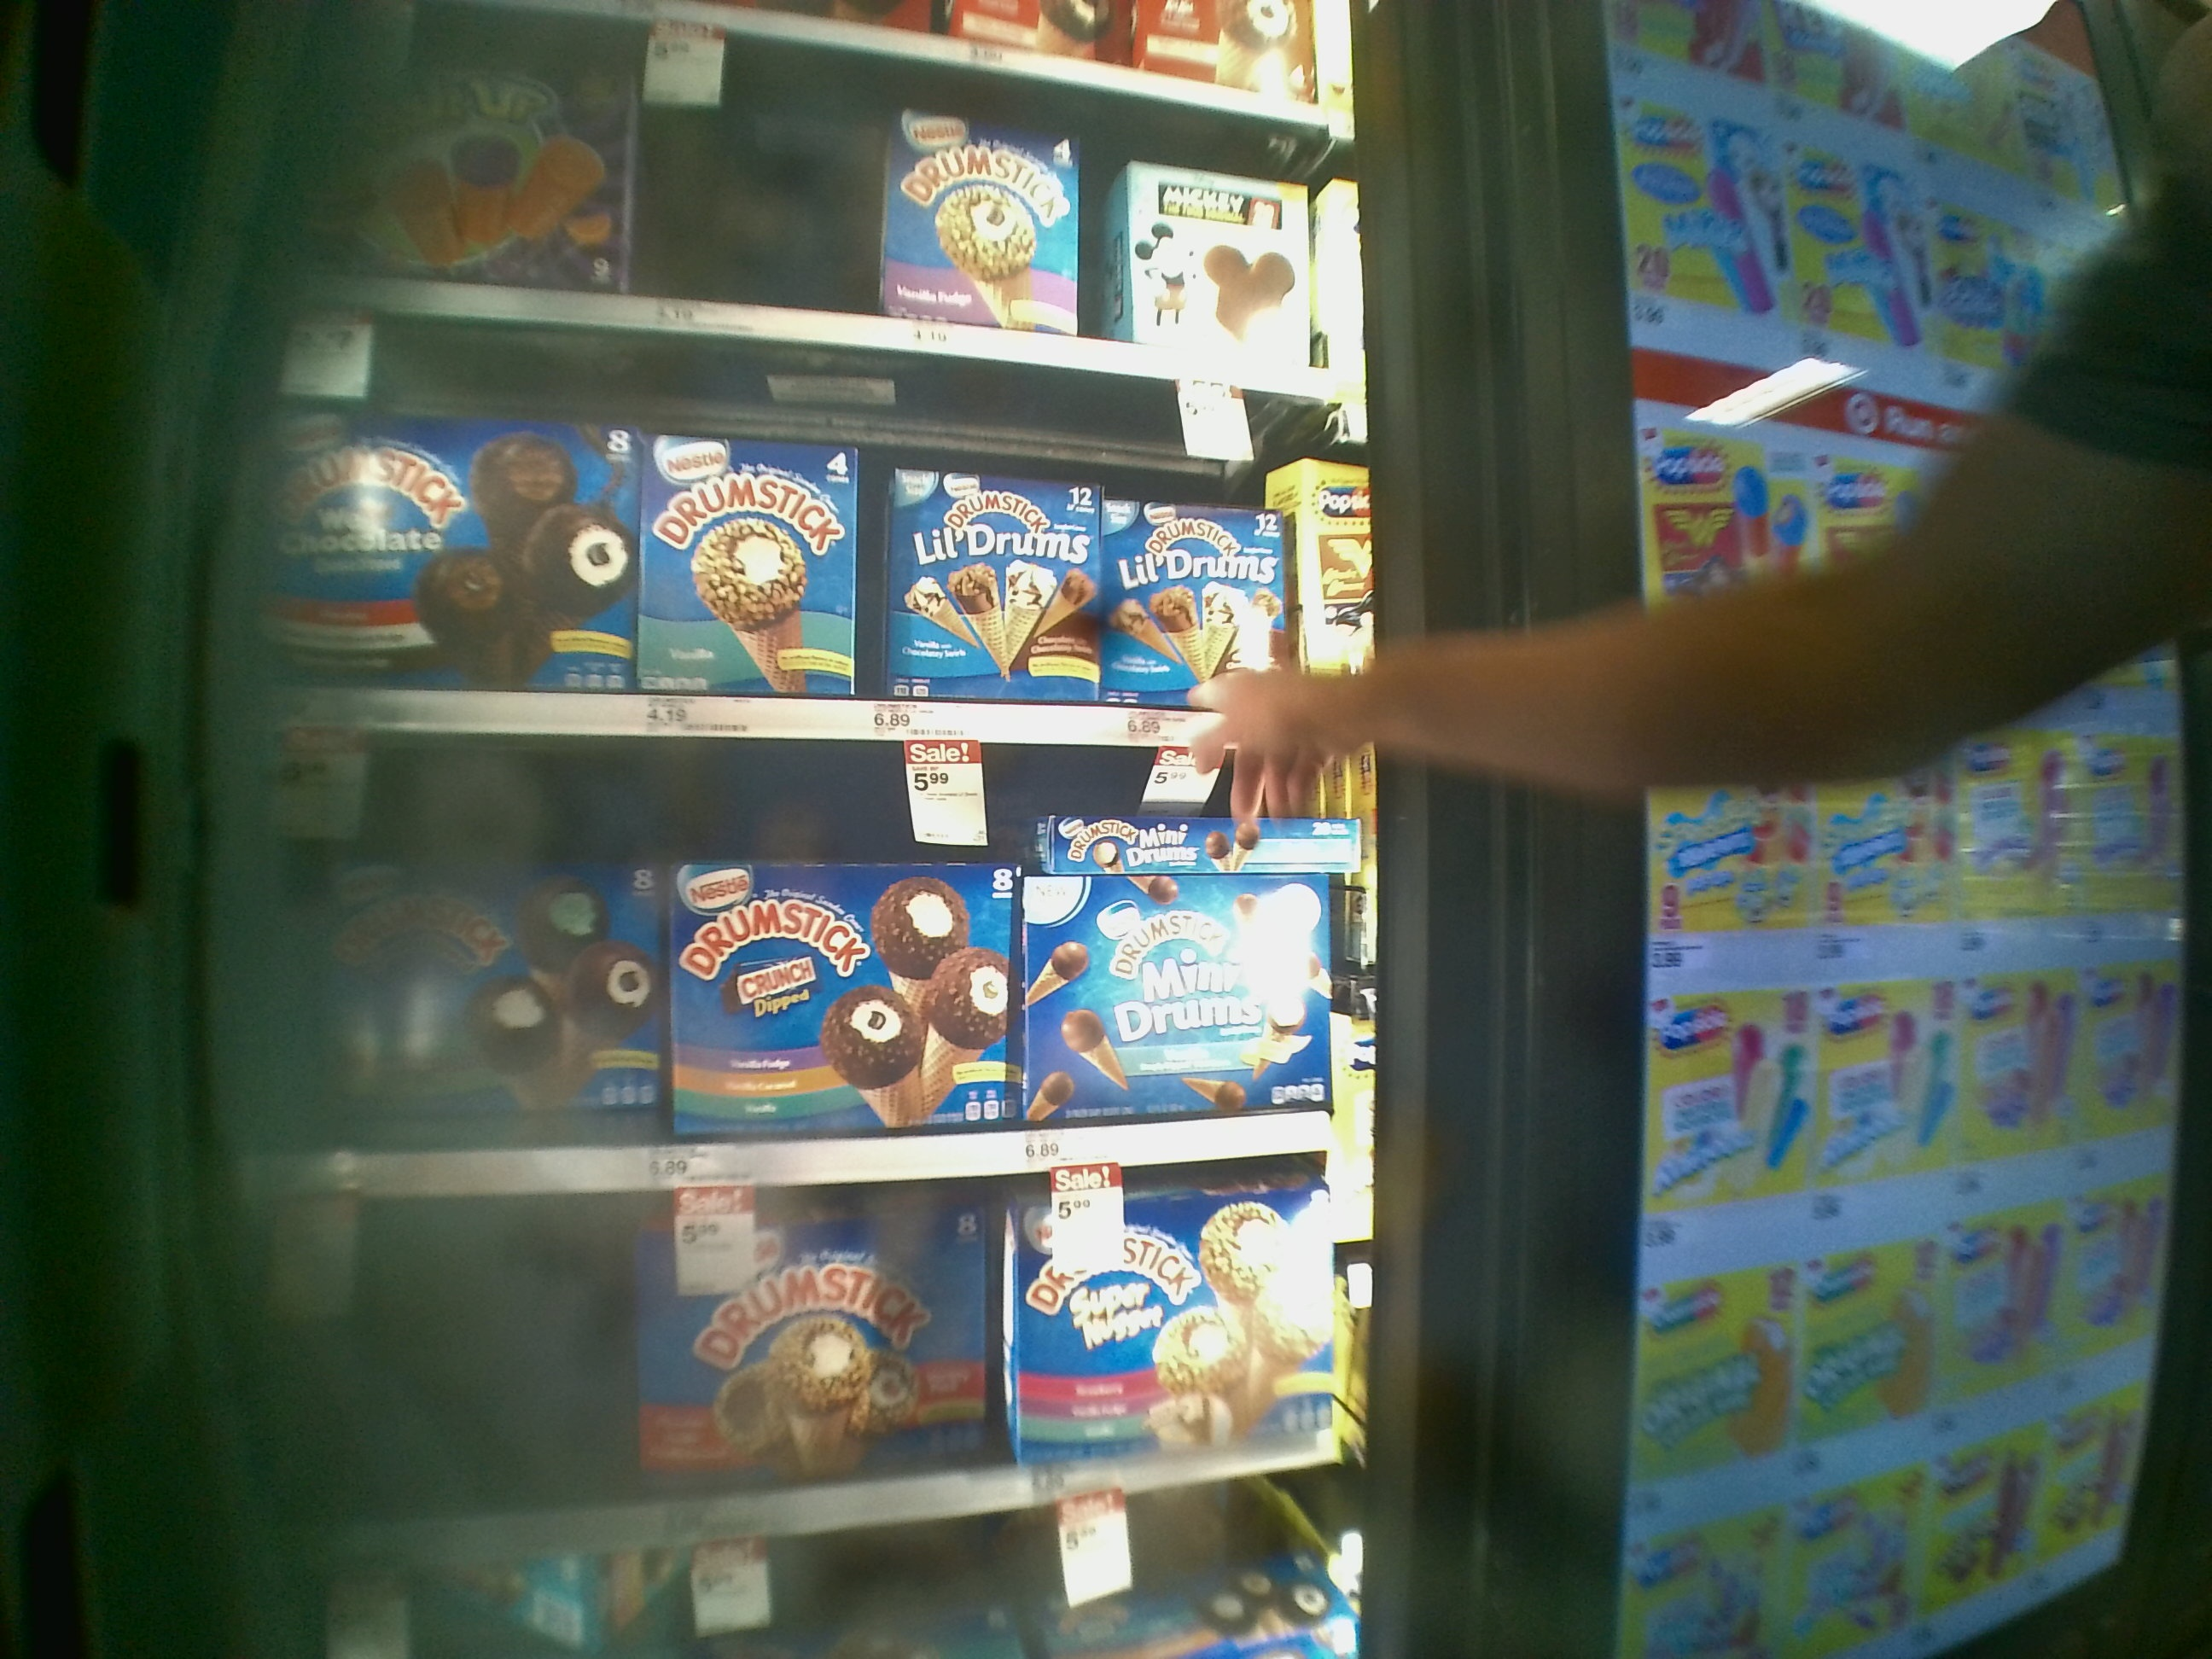shelf: (204, 324, 1359, 748), (204, 758, 1353, 1180)
